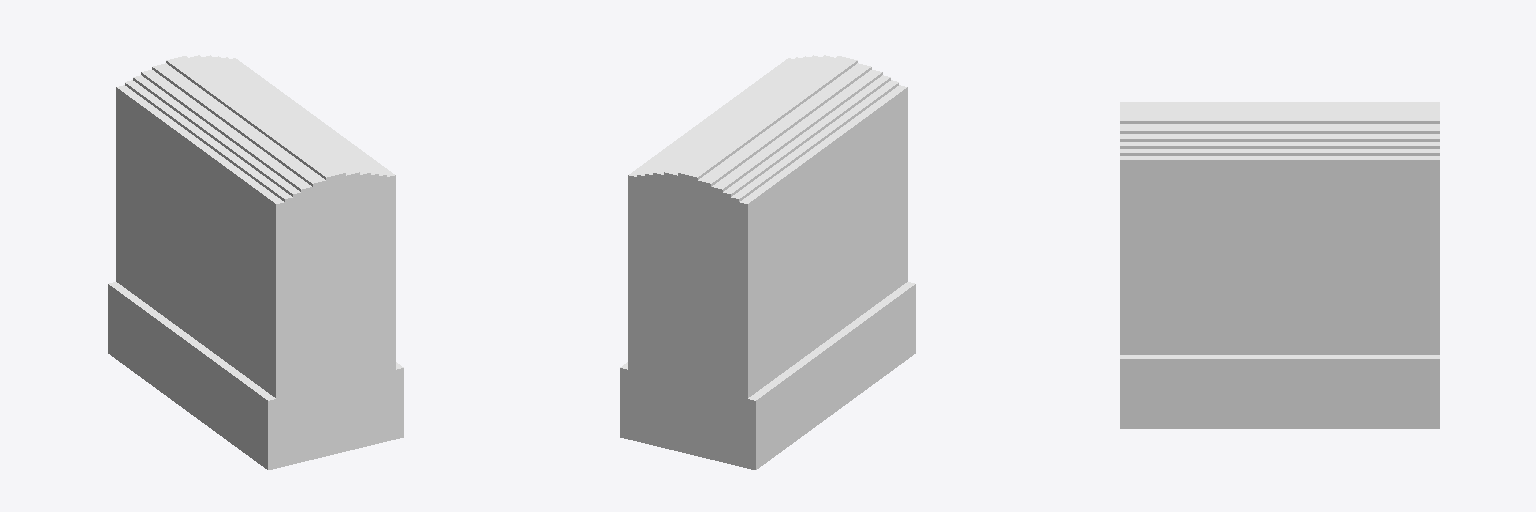
File: straightWall.obj
3 renders of one model, left to right at view 1: azimuth 30°, elevation 25°; view 2: azimuth 150°, elevation 25°; view 3: azimuth 270°, elevation 25°, orthographic.
Visible parts, largest first — view 1: object 1; view 2: object 1; view 3: object 1.
Part boxes in pixels (x1,y1,x2,y2): object 1: (108,55,403,469); object 1: (620,55,915,469); object 1: (1120,102,1439,428).
Bounding box in the file's own units: 4.9 × 9.6 × 10.